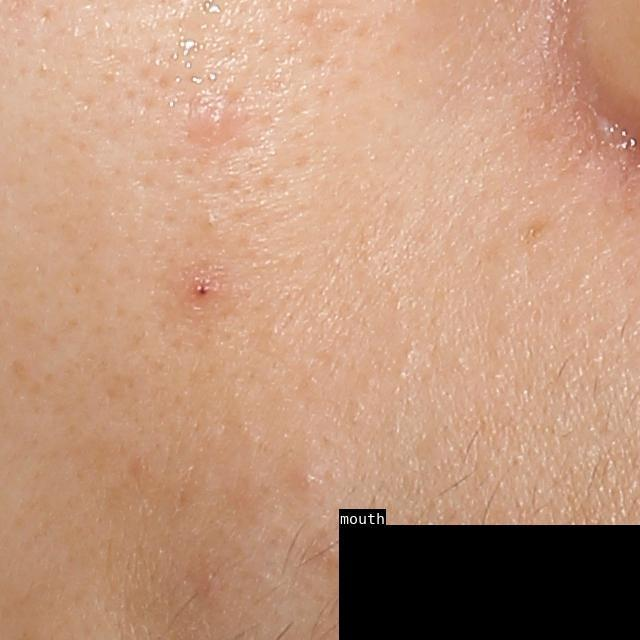comedo: (195, 206, 229, 239)
papule: (194, 101, 240, 143)
